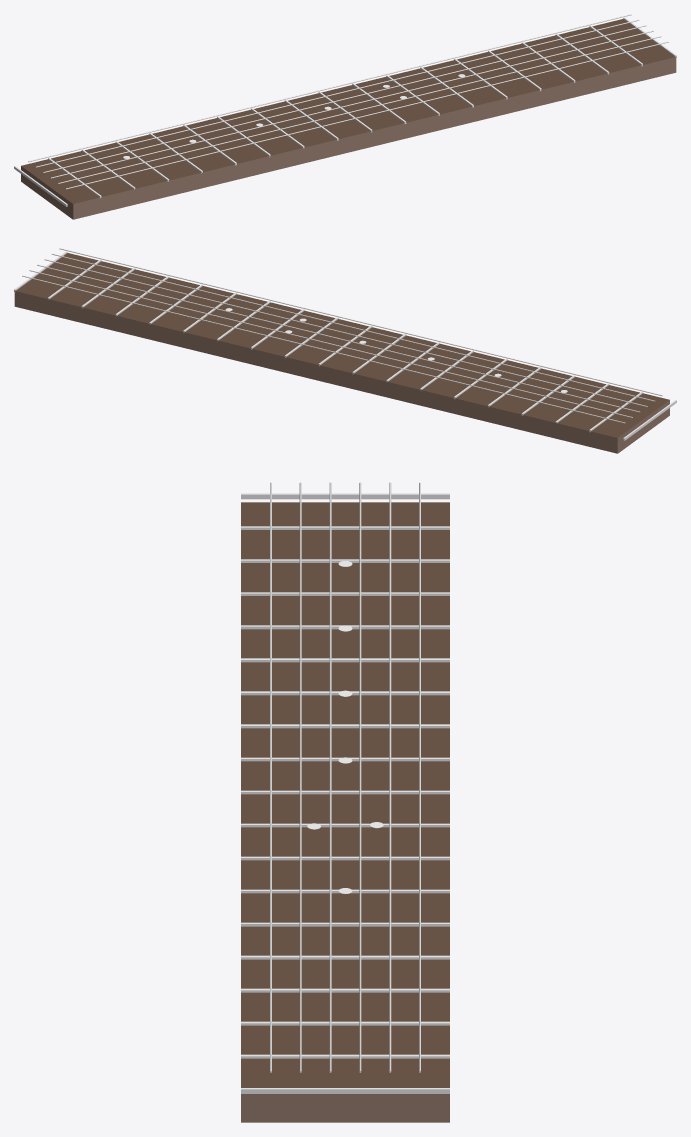
File: Fretboard.glb
The picture shows the model from 3 angles, top to bottom: view 1: azimuth 30°, elevation 25°; view 2: azimuth 150°, elevation 25°; view 3: azimuth 270°, elevation 25°; orthographic projection. The views are drawn at different scales.
Parts seen in each view (by area): view 1: Cube, Cylinder.008, Cylinder.012, Cylinder.007, Cylinder.010, Cylinder.011, Cylinder.009; view 2: Cube, Cylinder.011, Cylinder.007, Cylinder.008, Cylinder.009, Cylinder.012, Cylinder.010; view 3: Cube, Cylinder.008, Cylinder.009, Cylinder.010, Cylinder.011, Cube.019, Cube.001, Cylinder.007, Cylinder.012, Cube.002, Cube.003, Cube.004 (+10 smaller).
Boxes of the visible parts, x1,y1,x2,y2 form: Cube: [21, 19, 676, 219]; Cylinder.008: [35, 19, 639, 167]; Cylinder.012: [65, 41, 668, 189]; Cylinder.007: [28, 14, 631, 162]; Cylinder.010: [50, 30, 653, 178]; Cylinder.011: [58, 36, 661, 183]; Cylinder.009: [43, 25, 646, 172]; Cube: [14, 253, 669, 453]; Cylinder.011: [51, 253, 655, 401]; Cylinder.007: [22, 275, 625, 423]; Cylinder.008: [29, 270, 632, 417]; Cylinder.009: [37, 264, 640, 412]; Cylinder.012: [59, 248, 662, 396]; Cylinder.010: [44, 259, 647, 406]; Cube: [241, 502, 449, 1122]; Cylinder.008: [389, 482, 391, 1072]; Cylinder.009: [359, 482, 361, 1072]; Cylinder.010: [329, 482, 331, 1072]; Cylinder.011: [299, 482, 301, 1072]; Cube.019: [241, 493, 449, 499]; Cube.001: [241, 1088, 449, 1093]; Cylinder.007: [419, 482, 420, 1072]; Cylinder.012: [270, 482, 271, 1072]; Cube.002: [241, 1054, 449, 1058]; Cube.003: [241, 1021, 449, 1025]; Cube.004: [241, 988, 449, 992].
Size of the model in its own units: 4.05 by 0.163 by 0.6.
